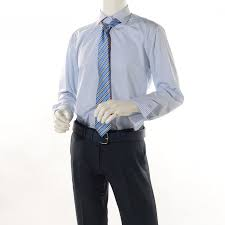F_belt: (65, 117, 162, 153)
F_dress pants: (68, 136, 161, 221)
F_shirt: (50, 7, 188, 135)
F_tie: (91, 20, 124, 138)
